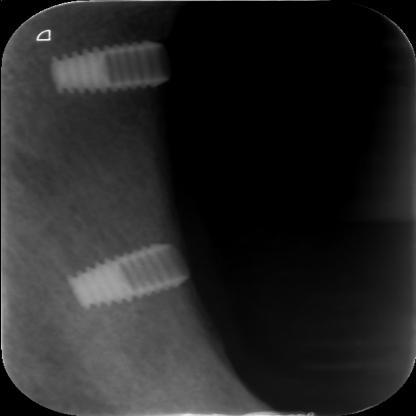Bicon: (63, 242, 196, 310), (43, 36, 173, 97)
